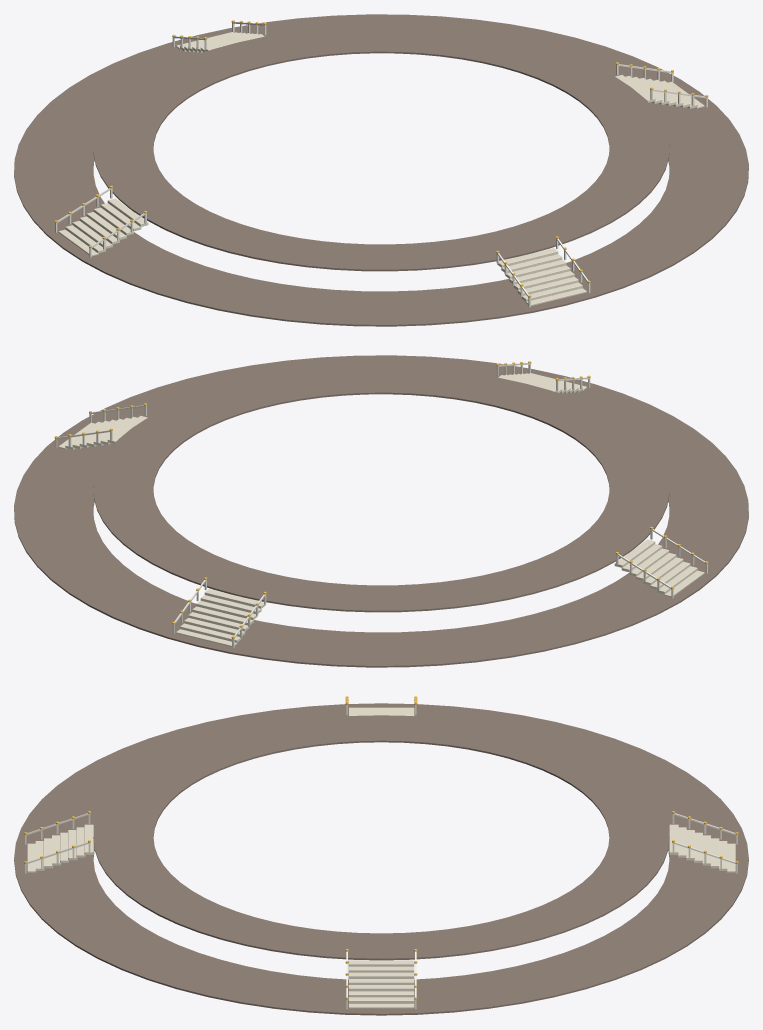
File: HNP_Chedi_M02_ExteriorRoute_v004.fbx
The picture shows the model from 3 angles, top to bottom: view 1: azimuth 30°, elevation 25°; view 2: azimuth 150°, elevation 25°; view 3: azimuth 270°, elevation 25°; orthographic projection.
Parts seen in each view (by area): view 1: HNP_Chedi_v004_M02_Route__HNP_Chedi_Stone, HNP_Chedi_v004_M02_Route__HNP_Chedi_Ivory, HNP_Chedi_v004_M02_Route__HNP_Chedi_White; view 2: HNP_Chedi_v004_M02_Route__HNP_Chedi_Stone, HNP_Chedi_v004_M02_Route__HNP_Chedi_Ivory, HNP_Chedi_v004_M02_Route__HNP_Chedi_White; view 3: HNP_Chedi_v004_M02_Route__HNP_Chedi_Stone, HNP_Chedi_v004_M02_Route__HNP_Chedi_Ivory, HNP_Chedi_v004_M02_Route__HNP_Chedi_White.
Boxes of the visible parts, x1,y1,x2,y2 form: HNP_Chedi_v004_M02_Route__HNP_Chedi_Stone: (14, 14, 748, 326); HNP_Chedi_v004_M02_Route__HNP_Chedi_Ivory: (58, 32, 704, 305); HNP_Chedi_v004_M02_Route__HNP_Chedi_White: (55, 22, 707, 307); HNP_Chedi_v004_M02_Route__HNP_Chedi_Stone: (14, 355, 748, 667); HNP_Chedi_v004_M02_Route__HNP_Chedi_Ivory: (58, 373, 704, 646); HNP_Chedi_v004_M02_Route__HNP_Chedi_White: (55, 363, 707, 648); HNP_Chedi_v004_M02_Route__HNP_Chedi_Stone: (14, 703, 748, 1015); HNP_Chedi_v004_M02_Route__HNP_Chedi_Ivory: (27, 707, 735, 1008); HNP_Chedi_v004_M02_Route__HNP_Chedi_White: (25, 705, 737, 1009).
Bounding box in the file's own units: 74 × 3.78 × 74.
